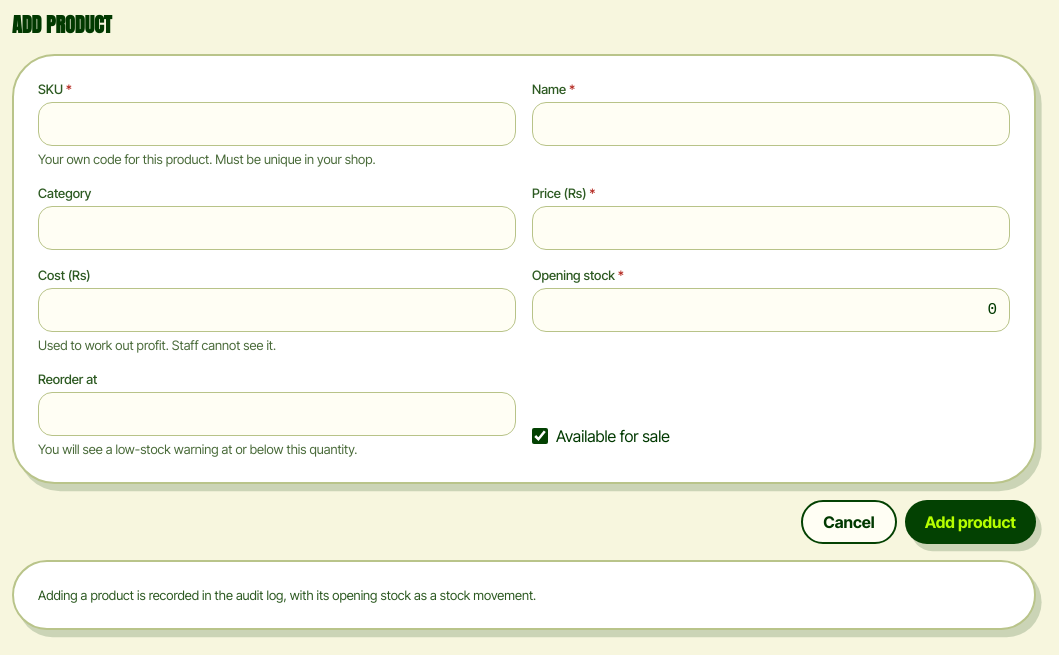
Scenario: ProductForm (task 52: validation, errors, double-submit) › a double click on Add product creates one record
In the field labelled "SKU *": (277,124) 38,102 -> 516,146, type "SKU-1"
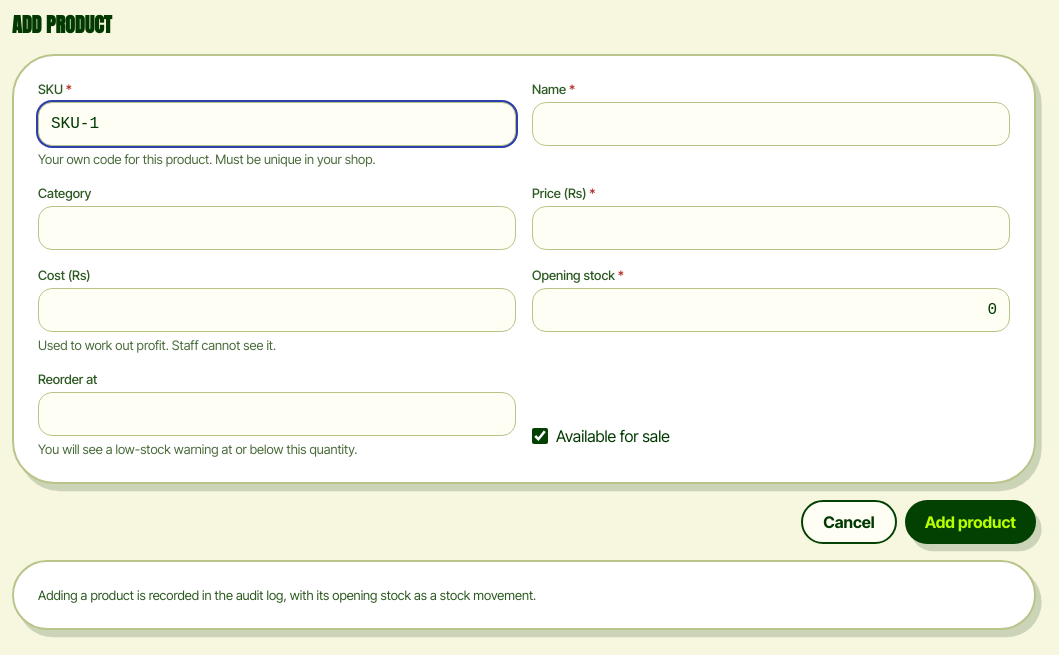
In the field labelled "Name *": (771,124) 532,102 -> 1010,146, type "Classic Shirt"
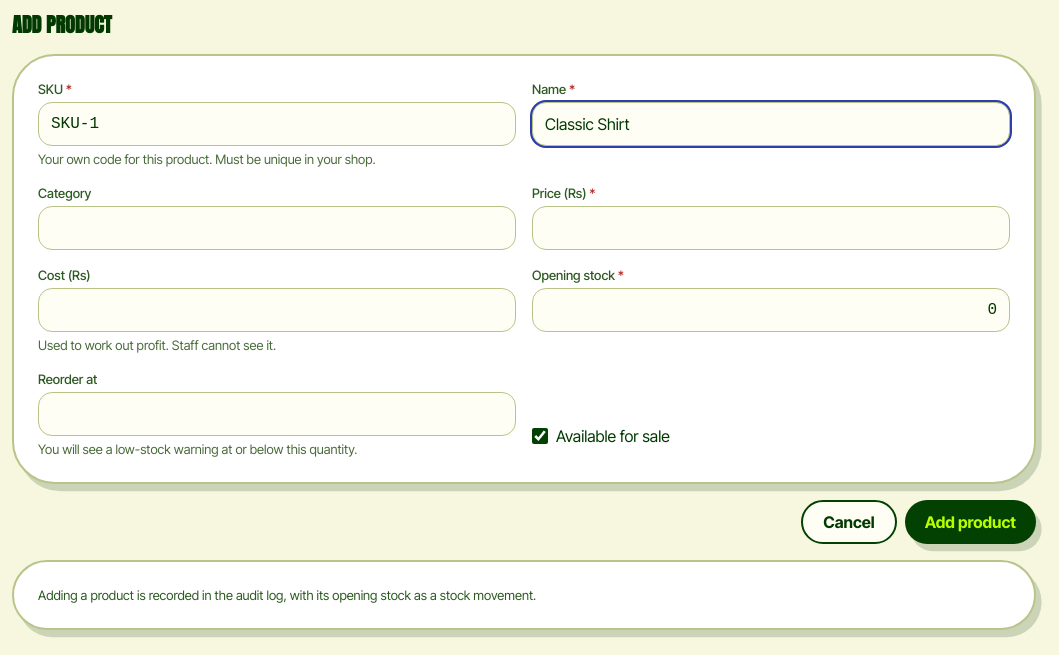
In the field labelled "Price (Rs) *": (771,228) 532,206 -> 1010,250, type "2500"
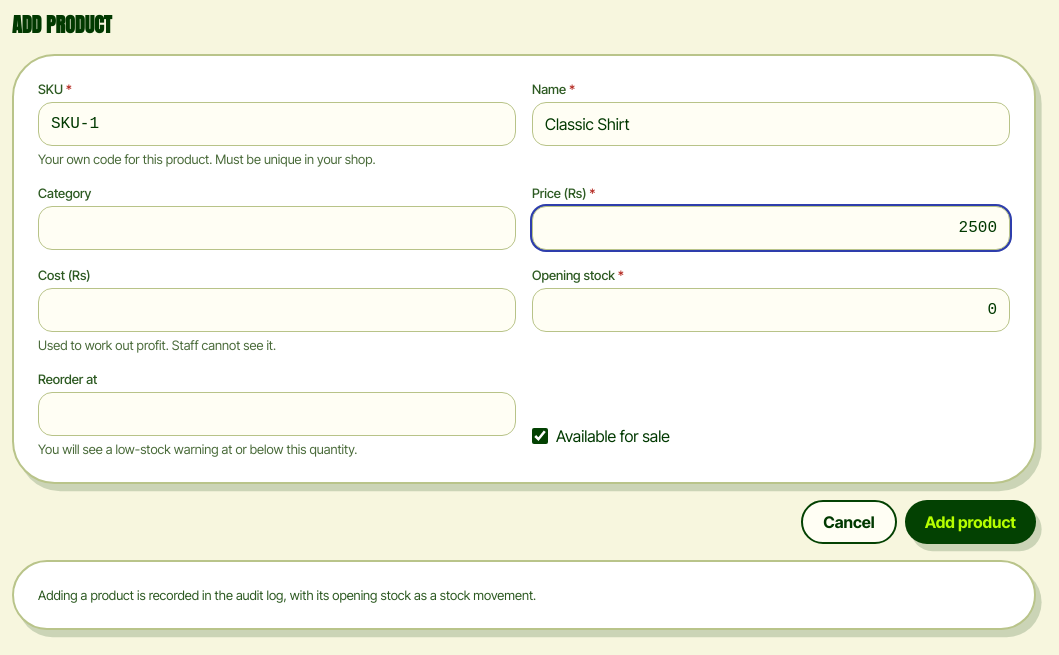
Double-click the button "Add product": (970,522) 905,500 -> 1036,544
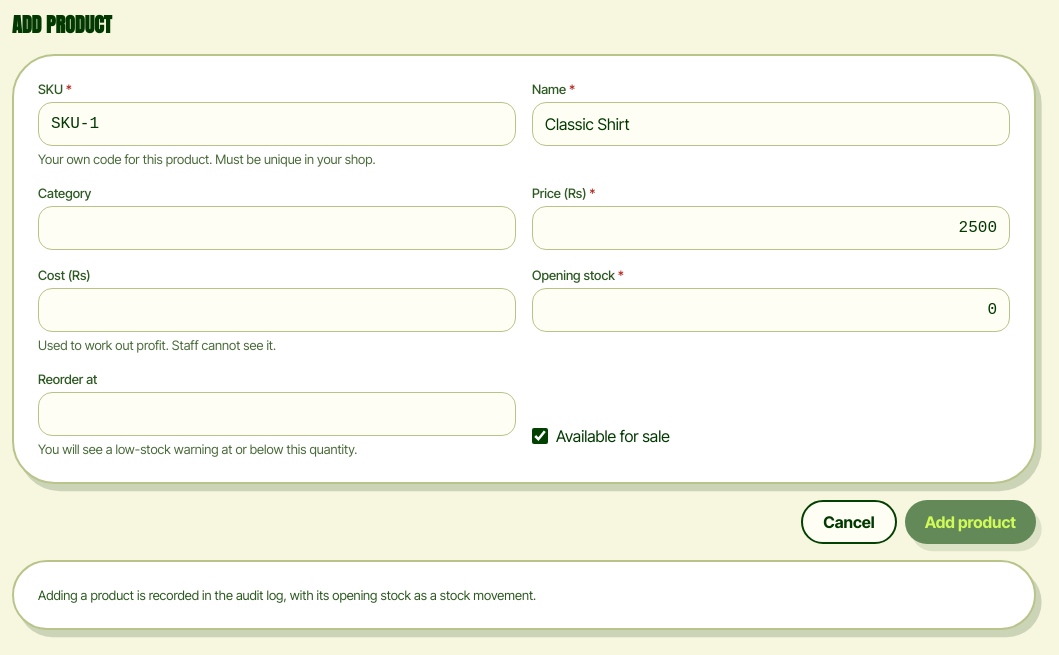
Now the button "Add product" is disabled, box 905,500 -> 1036,544
